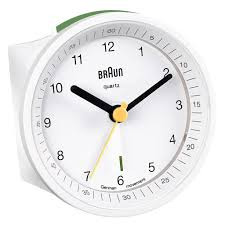alarm_clock: (4, 11, 211, 217)
